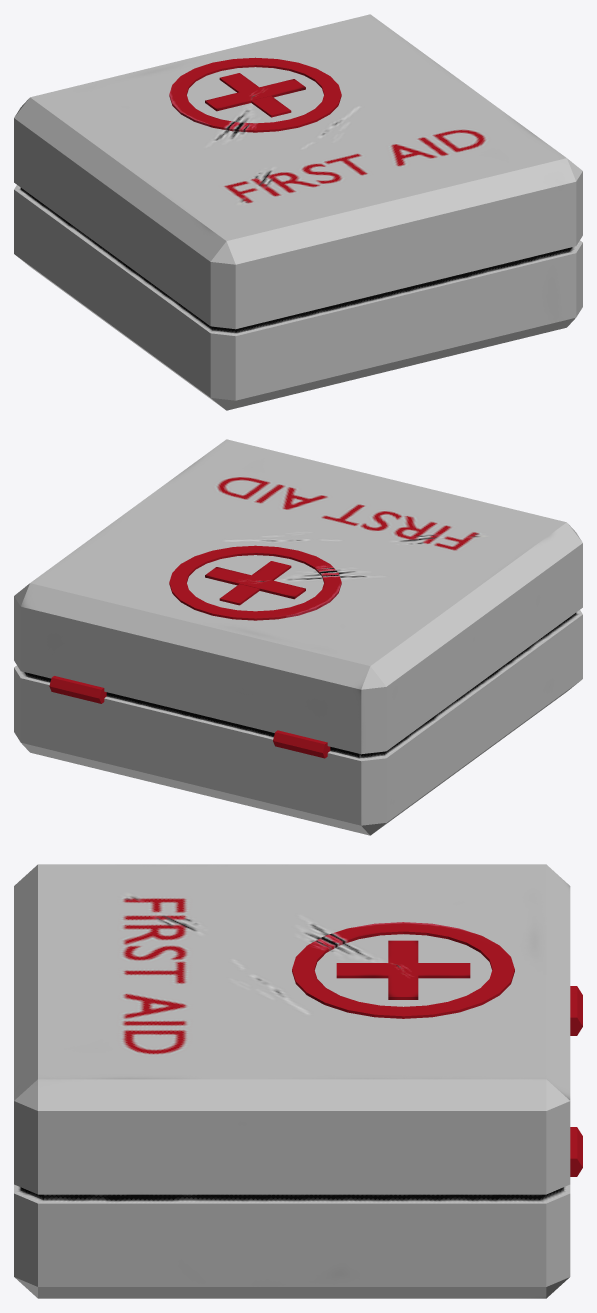
The model's file is loot_medicine.glb.
The picture shows the model from 3 angles, top to bottom: view 1: azimuth 30°, elevation 25°; view 2: azimuth 150°, elevation 25°; view 3: azimuth 270°, elevation 25°; orthographic projection. The views are drawn at different scales.
Visible parts, largest first — view 1: loot_medicine_mesh; view 2: loot_medicine_mesh; view 3: loot_medicine_mesh.
Part boxes in pixels (<box>): loot_medicine_mesh: <box>14,14,582,410</box>; loot_medicine_mesh: <box>14,439,582,835</box>; loot_medicine_mesh: <box>14,864,582,1298</box>.
Size of the model in its own units: 0.5867 by 0.2586 by 0.6.
Materials: 1 (1 with a texture image).
